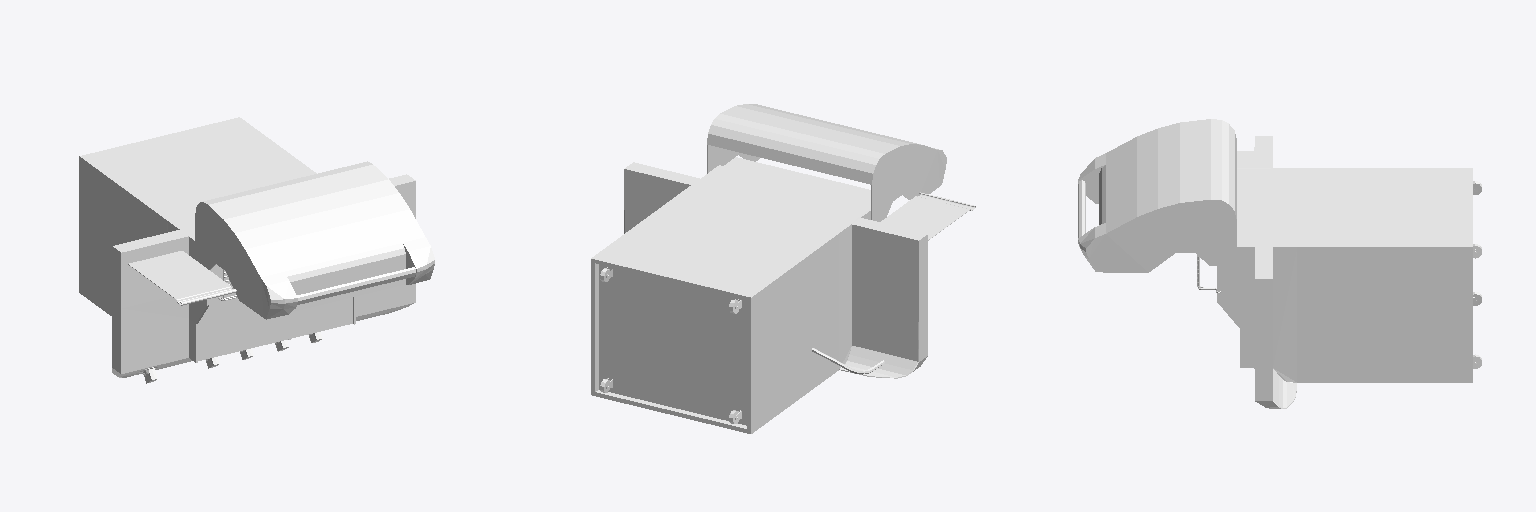
Rendered from BBQ.obj.
3 views of the same model, side by side, from view 1: azimuth 30°, elevation 25°; view 2: azimuth 150°, elevation 25°; view 3: azimuth 270°, elevation 25° (orthographic).
Parts seen in each view (by area): view 1: HSM0001___BBQ_LOW; view 2: HSM0001___BBQ_LOW; view 3: HSM0001___BBQ_LOW.
Boxes of the visible parts, <box> form: HSM0001___BBQ_LOW: <box>79,117,434,383</box>; HSM0001___BBQ_LOW: <box>591,104,975,433</box>; HSM0001___BBQ_LOW: <box>1078,119,1481,408</box>.
Size of the model in its own units: 127 by 79.4 by 150.